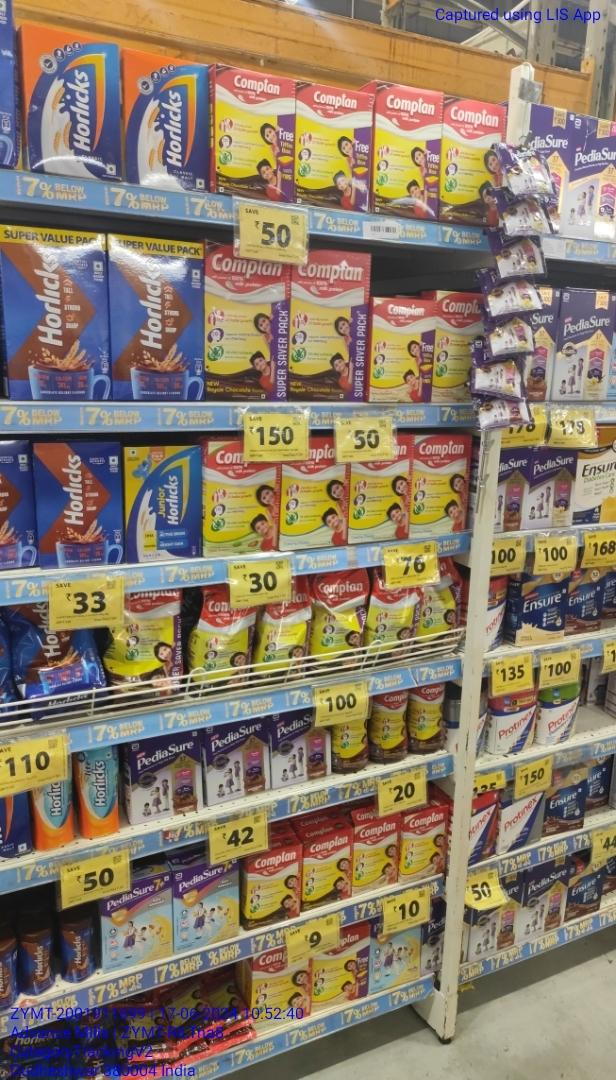COMPLAN_CHOCOLATE_1_KG_PACK: (205, 247, 287, 404), (289, 248, 368, 401)
COMPLAN_CHOCOLATE_500_GMS_PACK: (377, 84, 440, 217), (248, 850, 300, 926), (304, 836, 351, 907), (373, 689, 409, 766), (415, 682, 447, 755)
COMPLAN_CREAMY_CLASSIC_500_G_PACK: (282, 443, 353, 548), (410, 436, 469, 539), (354, 457, 409, 544), (253, 951, 310, 1029)
COMPLAN_KESAR_BADAM_500_GMS_PACK: (372, 298, 434, 403), (435, 291, 478, 407), (313, 934, 367, 1009), (352, 819, 399, 894), (402, 813, 446, 884)
COMPLAN_PISTA_BADAM_500_GMS_PACK: (206, 443, 278, 557)
COMPLAN_RC_POUCH_700_GMS_12: (116, 591, 185, 706), (196, 586, 254, 692), (314, 573, 367, 676), (258, 596, 310, 687), (370, 584, 421, 664), (423, 574, 461, 652)
ENSURE_VANILLA_400_G_PACK: (522, 571, 567, 642)
HORLICKS_LITE_REGULAR_MALT_500_GM_JAR: (75, 751, 119, 841)
HORLICK_CHOCOLATE_1_KG_PACK: (1, 227, 104, 401), (109, 236, 203, 400)
HORLICK_CHOCOLATE_200_G_JAR: (19, 928, 52, 998), (59, 919, 93, 985)
HORLICK_CHOCOLATE_500_G_PACK: (34, 444, 119, 565)
HORLICK_CLASSIC_MALT_500_G_PACK: (25, 29, 121, 180), (124, 51, 208, 189)
PEDIASURE_CHOCOLATE_500_G_PACK: (130, 736, 198, 816), (205, 721, 269, 802), (271, 711, 328, 786), (525, 862, 566, 936), (473, 903, 521, 957)
PEDIASURE_VANILLA_500_G_PACK: (528, 451, 573, 530)
